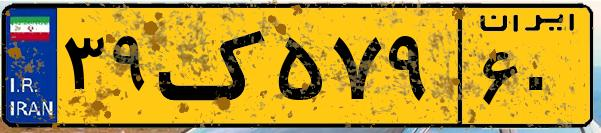0: (525, 38, 570, 115)
3: (57, 26, 110, 100)
5: (270, 28, 330, 110)
6: (475, 38, 525, 113)
7: (330, 28, 385, 110)
9: (385, 28, 445, 110), (110, 28, 158, 98)
ک: (158, 12, 270, 120)
